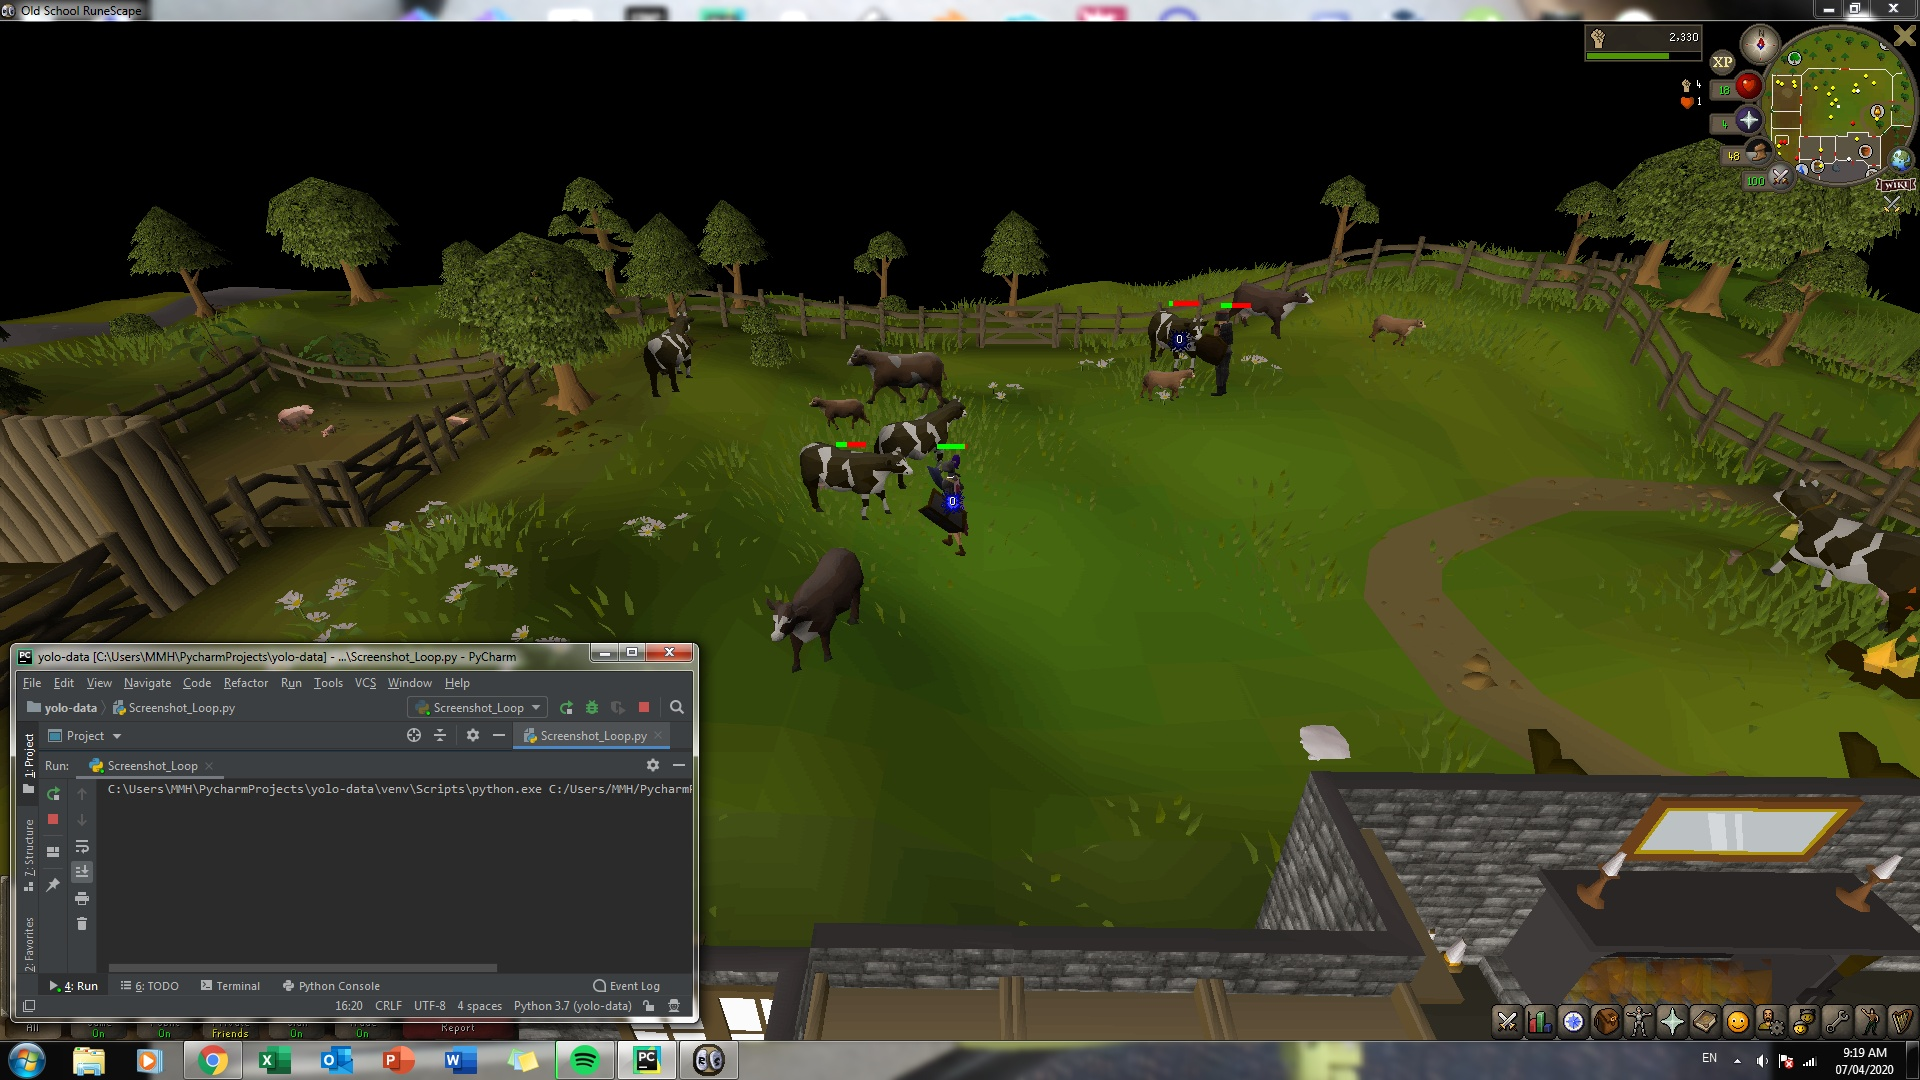cow: (771, 542, 868, 684), (798, 436, 907, 516), (847, 347, 948, 407), (877, 400, 968, 467), (1233, 281, 1317, 340), (644, 313, 695, 401), (1149, 310, 1205, 378)
